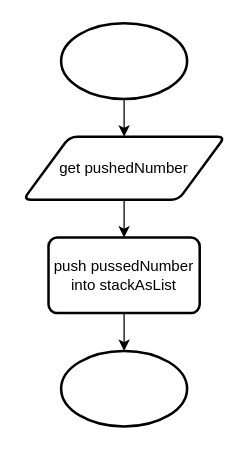
Some shapes in this 247 by 449 pixel diagram are drawn without their labels. The shapes that lost their labels are listed below. From the top down, each one's centre as x and y in pixels, then its label:
point (123, 60): Start
point (123, 388): Stop
